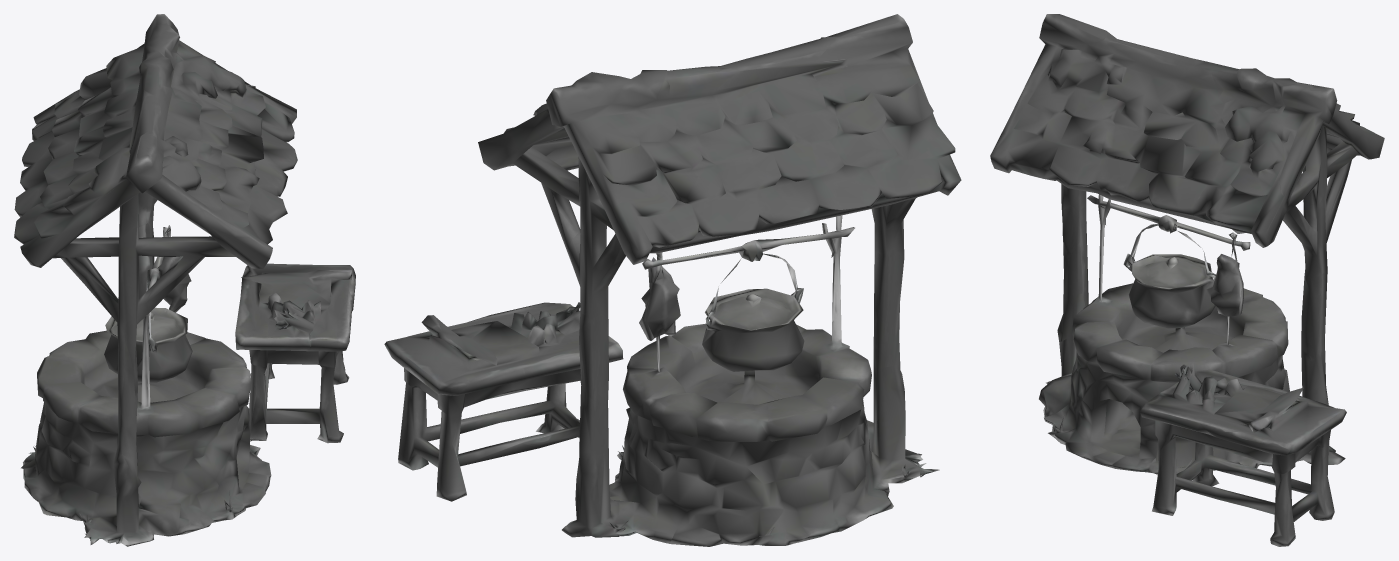
The model's file is town_station_cooking_hearth.glb.
3 views of the same model, side by side, from view 1: azimuth 30°, elevation 25°; view 2: azimuth 150°, elevation 25°; view 3: azimuth 270°, elevation 25° (orthographic). The views are drawn at different scales.
Visible parts, largest first — view 1: tripo_node_263a4aa4-f247-4e32-94ae-2235b2f86c1f; view 2: tripo_node_263a4aa4-f247-4e32-94ae-2235b2f86c1f; view 3: tripo_node_263a4aa4-f247-4e32-94ae-2235b2f86c1f.
Part boxes in pixels (x1,y1,x2,y2): tripo_node_263a4aa4-f247-4e32-94ae-2235b2f86c1f: (14, 14, 355, 546); tripo_node_263a4aa4-f247-4e32-94ae-2235b2f86c1f: (384, 14, 961, 546); tripo_node_263a4aa4-f247-4e32-94ae-2235b2f86c1f: (990, 14, 1384, 546).
Size of the model in its own units: 4.33 by 3.8 by 3.56.
1 material, 1 textured.
